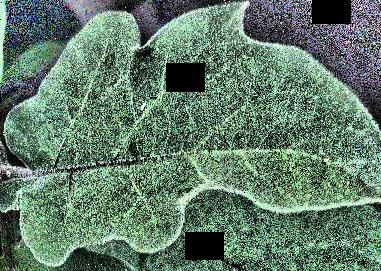HEALTHY: (1, 0, 381, 271)
